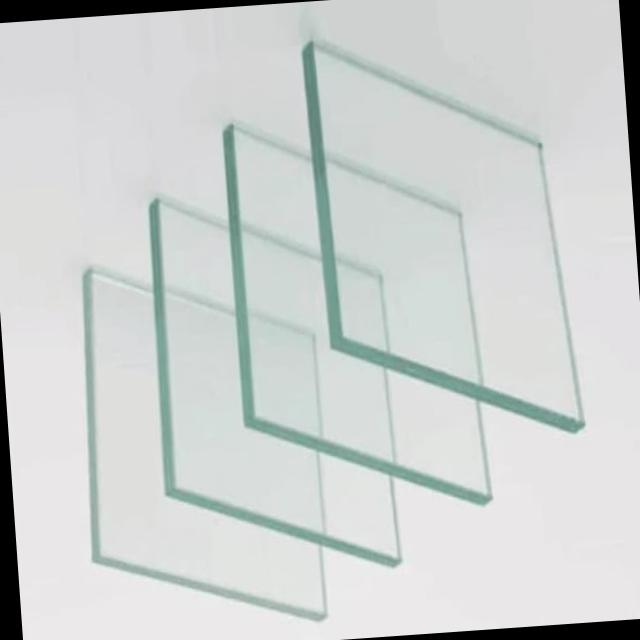glass: (277, 11, 594, 446), (198, 90, 508, 518), (130, 174, 410, 578), (68, 245, 334, 629)
